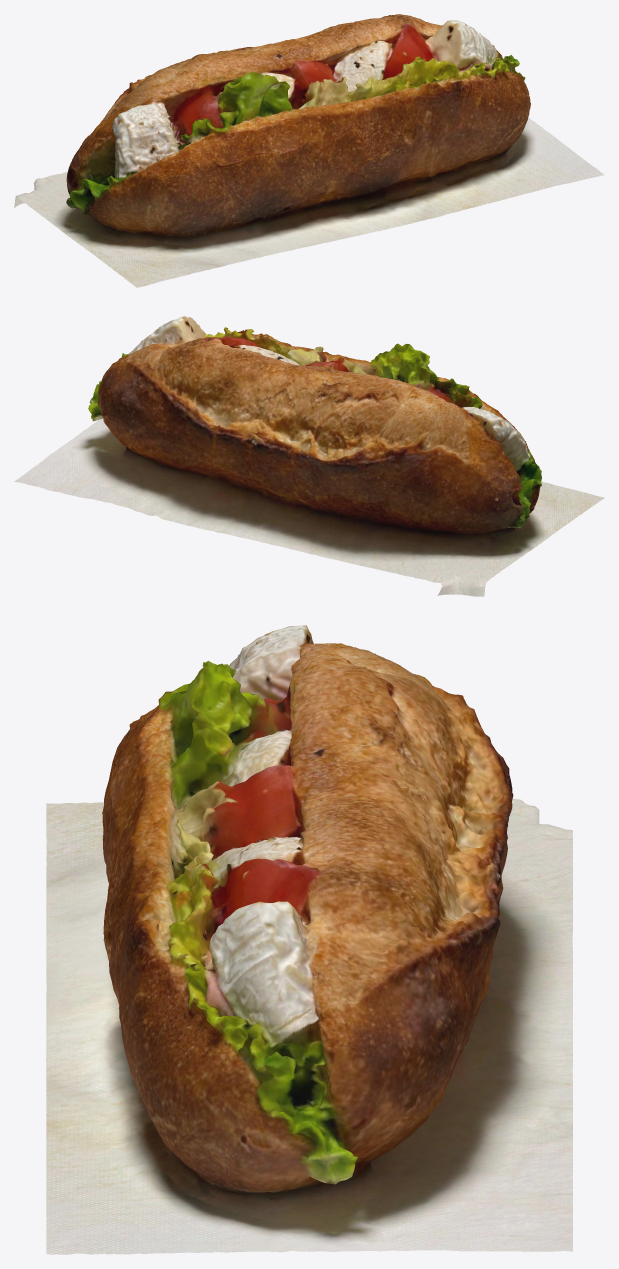
File: bagetSand.glb
3 renders of one model, top to bottom at view 1: azimuth 30°, elevation 25°; view 2: azimuth 150°, elevation 25°; view 3: azimuth 270°, elevation 25°, orthographic. The views are drawn at different scales.
Visible parts, largest first — view 1: Object_2; view 2: Object_2; view 3: Object_2.
Part boxes in pixels (box(x1,y1,x2,y2)): Object_2: box(14, 14, 604, 287); Object_2: box(14, 316, 604, 596); Object_2: box(46, 625, 572, 1254).
Bounding box in the file's own units: 0.2291 × 0.0739 × 0.1137.
Materials: 1 (1 with a texture image).
